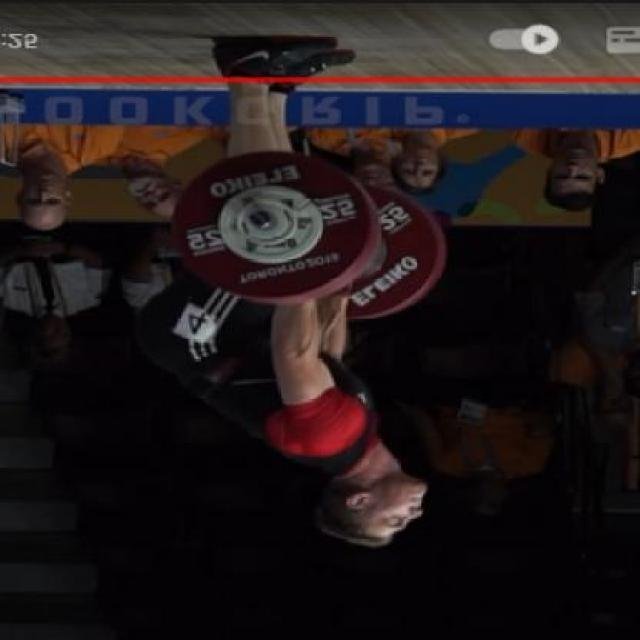Barbell: (243, 209, 277, 234)
